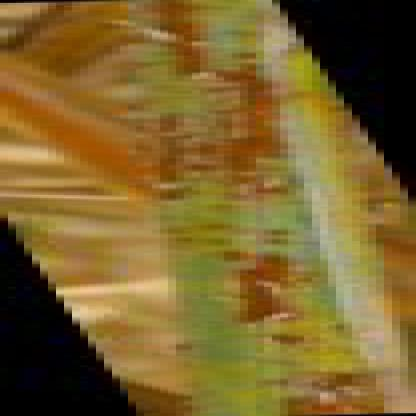wheat Stem Rust: (136, 4, 272, 138), (211, 243, 332, 330), (145, 144, 285, 206), (253, 370, 400, 416)
